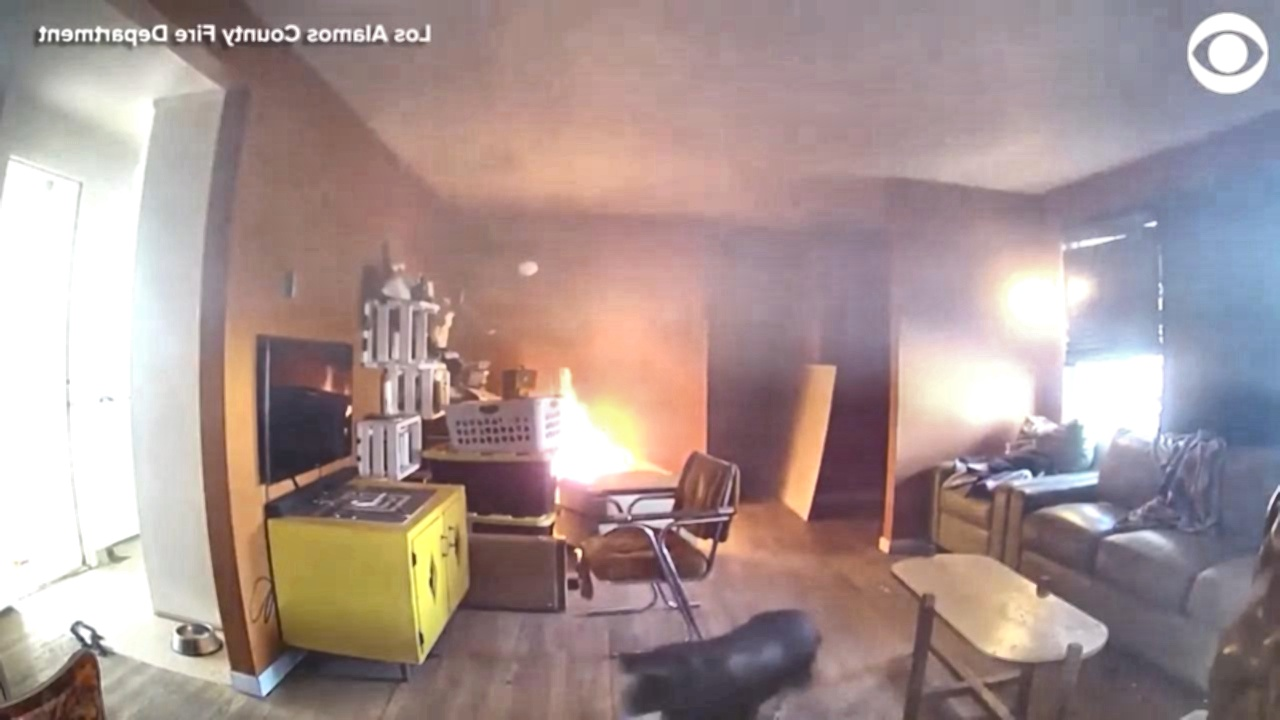fire: (541, 385, 648, 508)
